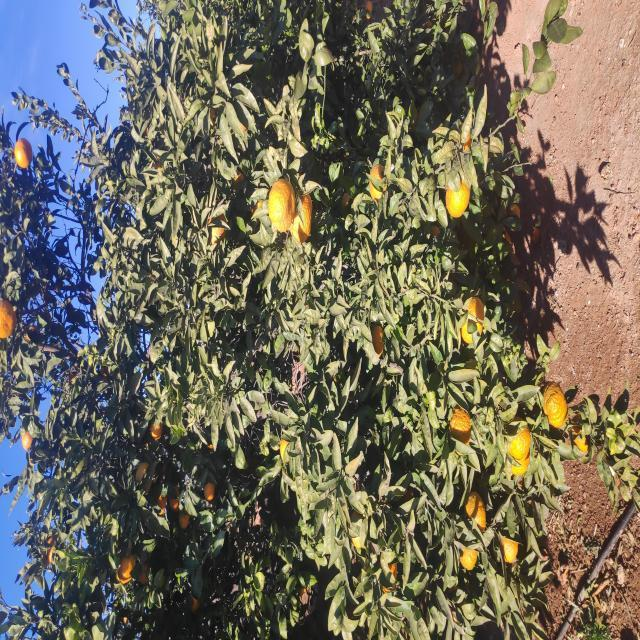Jeruk Sudah Matang: (408, 268, 460, 296), (183, 448, 236, 472), (212, 542, 260, 568), (296, 460, 344, 484), (398, 290, 448, 312), (422, 446, 463, 472), (106, 464, 150, 486), (180, 508, 224, 530), (392, 207, 440, 227), (184, 570, 226, 588), (55, 116, 88, 136), (438, 369, 476, 386), (302, 0, 342, 16), (164, 510, 196, 530), (144, 136, 179, 152), (47, 381, 79, 398), (472, 15, 503, 32), (77, 501, 103, 518), (283, 371, 316, 384), (69, 460, 92, 478), (488, 460, 518, 472), (76, 45, 104, 56), (190, 22, 212, 34), (200, 150, 222, 162), (130, 168, 156, 178), (27, 187, 47, 200), (139, 203, 159, 216), (176, 280, 202, 290), (298, 26, 316, 40), (110, 178, 130, 190), (451, 231, 469, 244), (126, 156, 148, 166), (621, 364, 639, 372)
